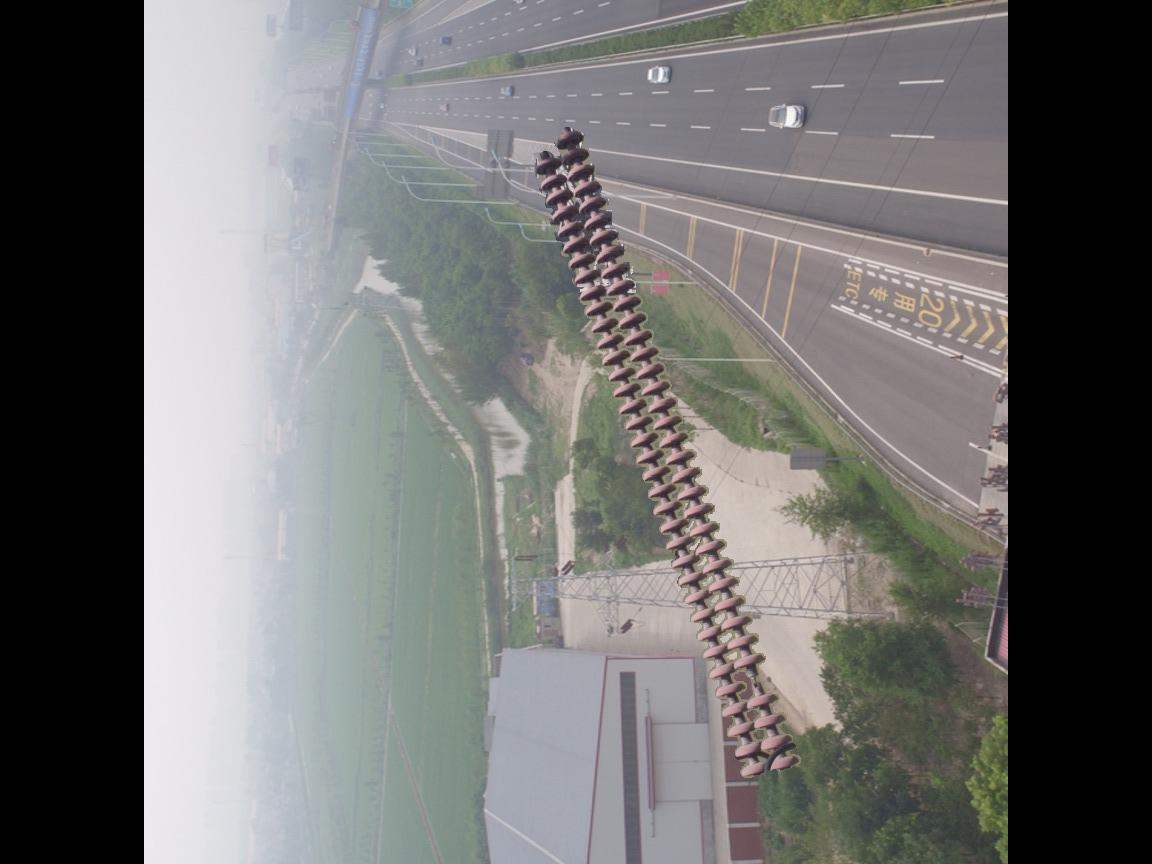insulator: (530, 125, 808, 785)
insulator_stringdrop: (730, 649, 782, 713)
